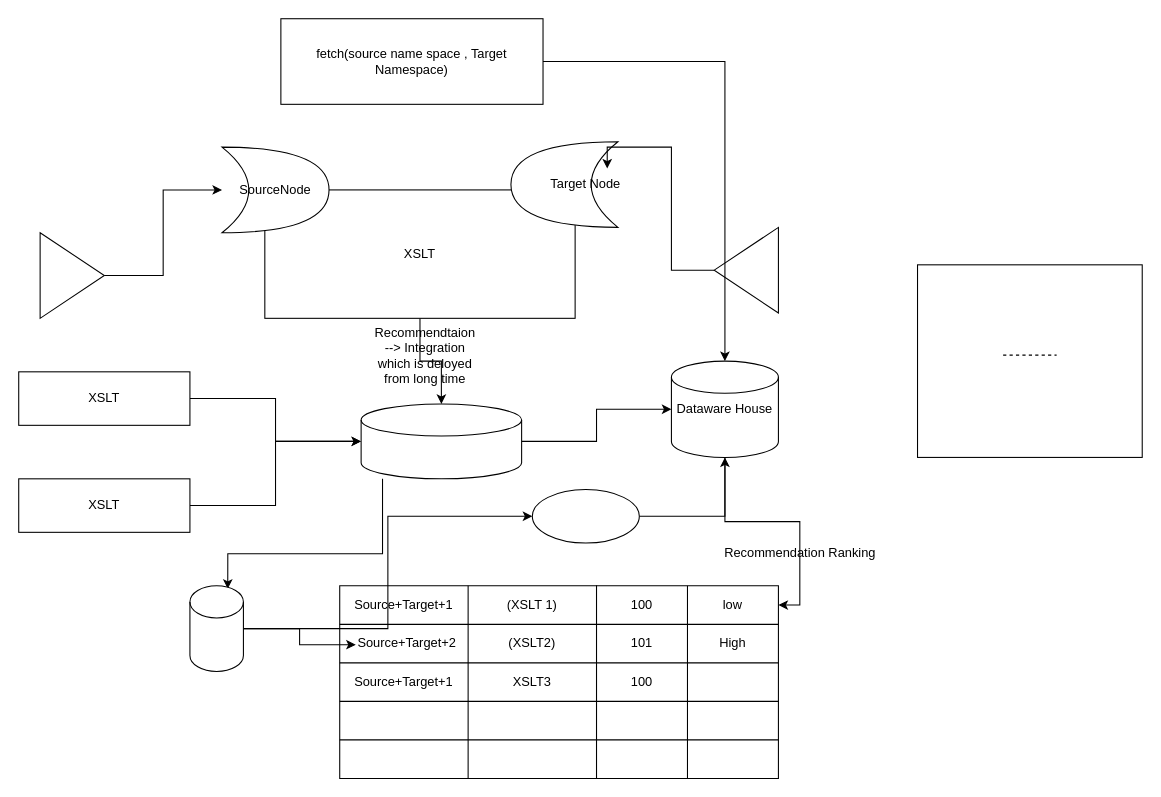
Image size: 1161x797. Some labels were removed from this diagram. Here are the shapes that lost their labels. From the top down, the centre of each, then its label:
the point at 1029,360: source-Node Targetnode Elements1 Elements1 element2 elemenst2 Element3 Element3
the point at 585,515: Spark engine
the point at 216,628: Parsing
